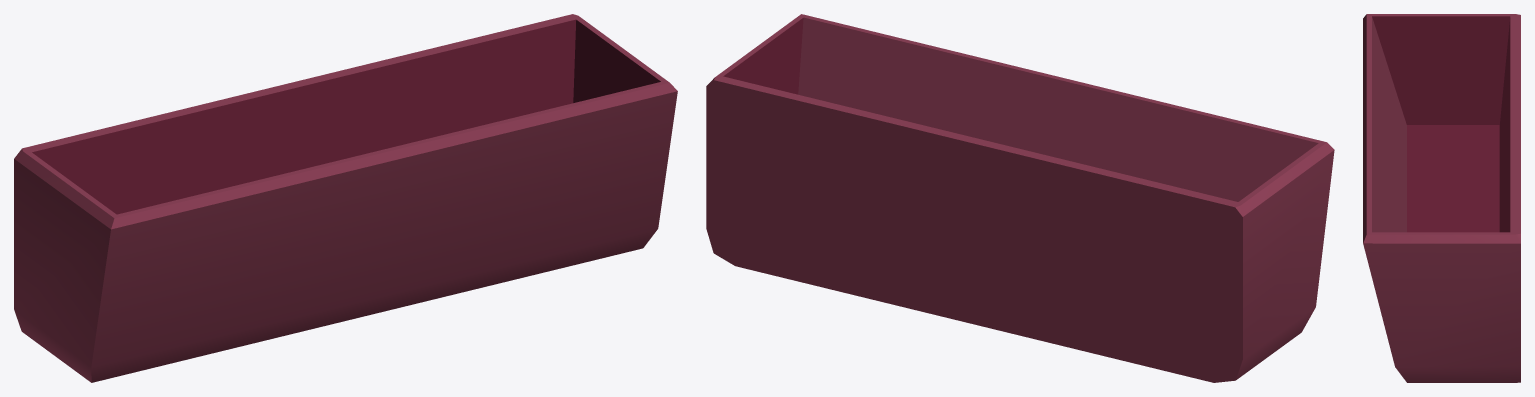
File: m_pot.FBX
3 renders of one model, left to right at view 1: azimuth 30°, elevation 25°; view 2: azimuth 150°, elevation 25°; view 3: azimuth 270°, elevation 25°, orthographic. The views are drawn at different scales.
Visible parts, largest first — view 1: big_plant_pot; view 2: big_plant_pot; view 3: big_plant_pot.
Boxes of the visible parts, x1,y1,x2,y2 form: big_plant_pot: (14, 14, 677, 382); big_plant_pot: (706, 14, 1334, 382); big_plant_pot: (1363, 14, 1520, 382).
Bounding box in the file's own units: 50.52 × 16.27 × 14.97.
